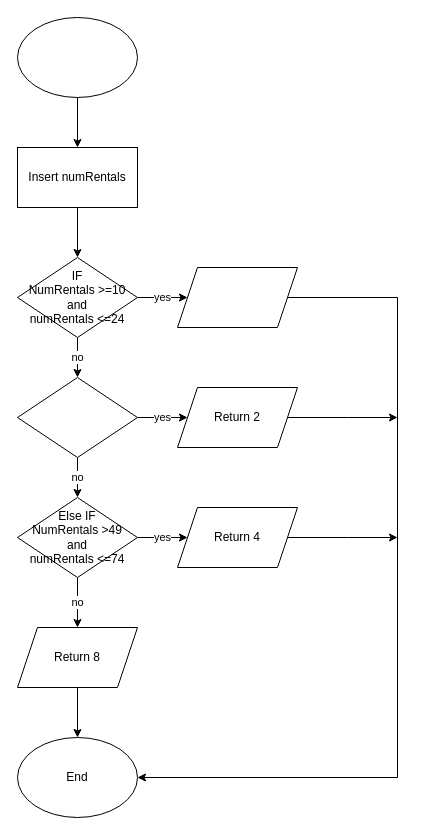
Image size: 423x835. Some labels were removed from this diagram. Each missing label, with the centre of its shape:
"Begin" belongs at point 77,57.
"Else IF NumRentals >24 and numRentals <=49" belongs at point 77,417.
"Return 1" belongs at point 237,297.
